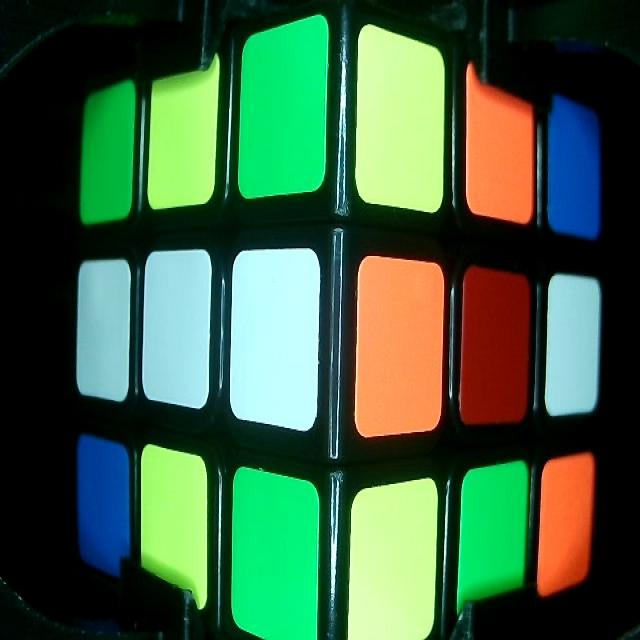b: (75, 438, 130, 573), (551, 95, 602, 234)
g: (238, 13, 327, 196), (235, 470, 319, 640), (462, 457, 525, 619), (78, 80, 136, 226)
o: (356, 253, 444, 438), (465, 59, 534, 223), (542, 459, 595, 590)
r: (462, 269, 531, 422)
w: (230, 250, 318, 428), (143, 250, 209, 404), (73, 263, 132, 400), (548, 272, 599, 414)
y: (358, 30, 445, 208), (348, 482, 437, 640), (143, 444, 208, 611), (149, 59, 218, 211)
